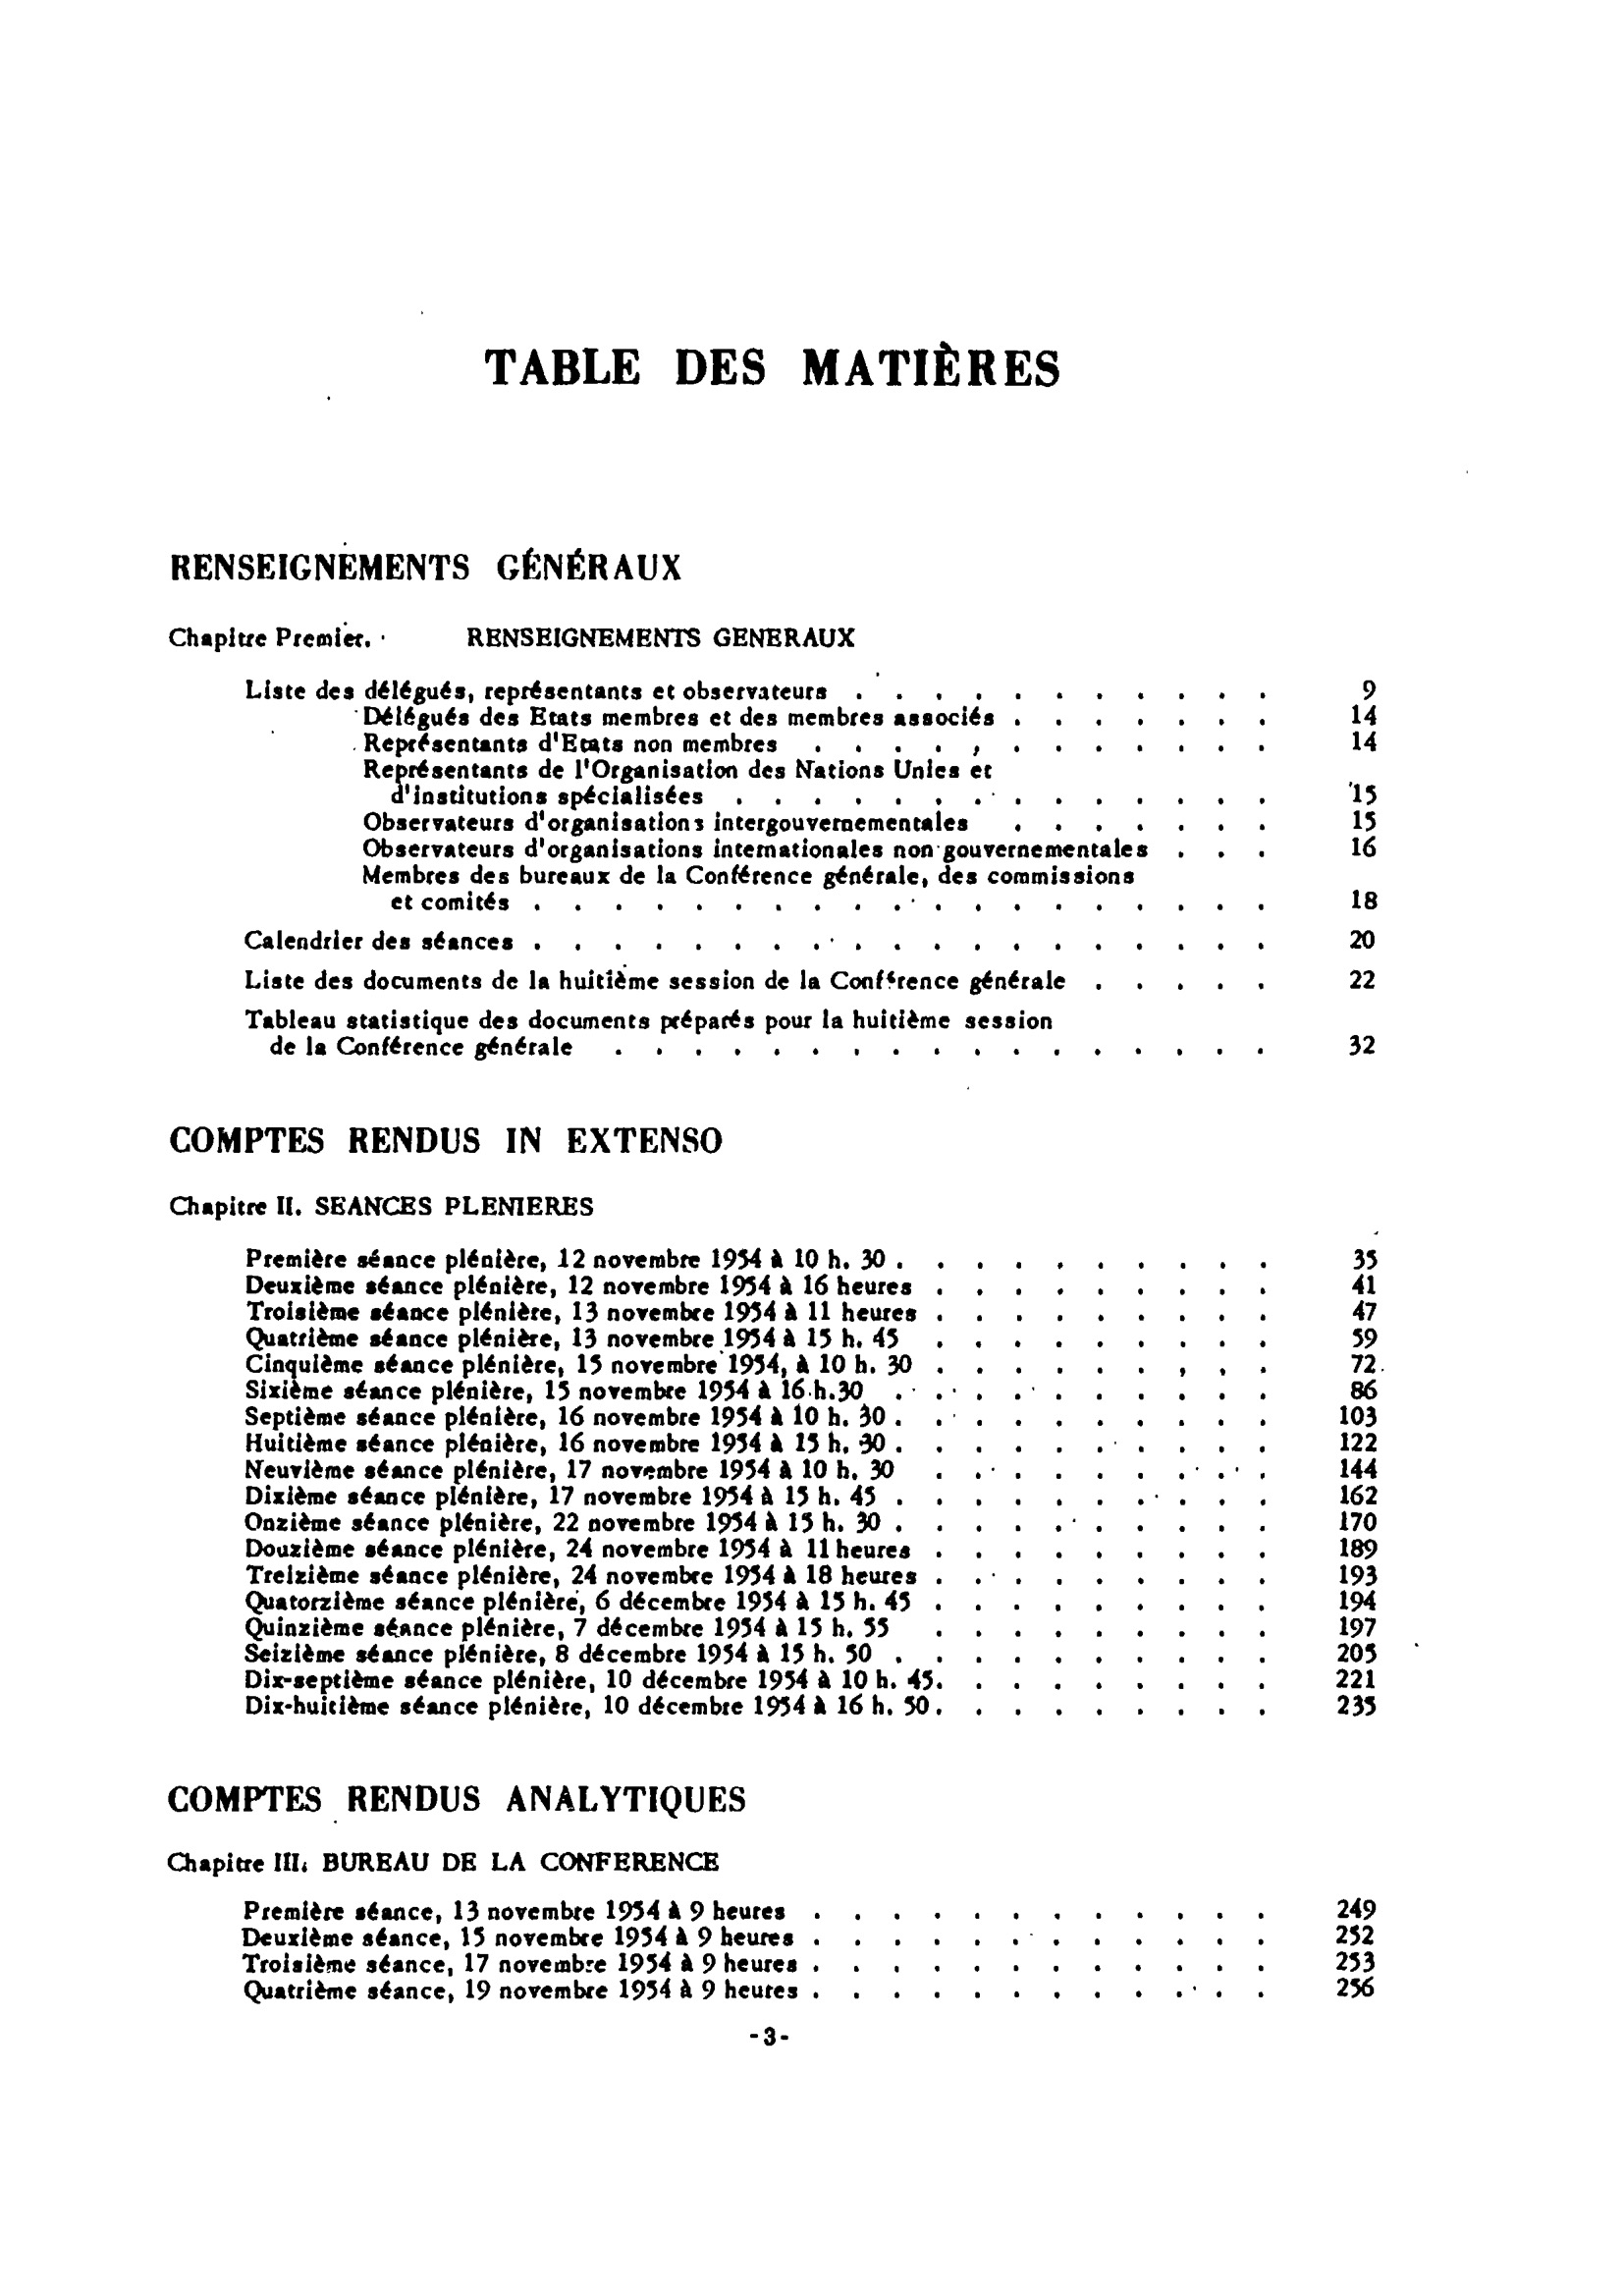MainZone-Head: (469, 326, 1078, 409)
QuireMarksZone: (112, 536, 1397, 2010)
TitlePageZone: (746, 2018, 797, 2058)
